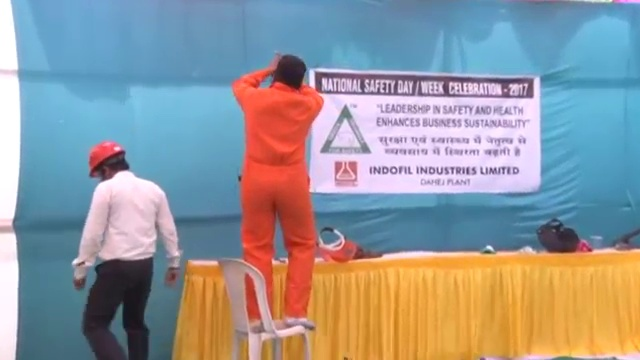helmet: (86, 138, 126, 177)
helmet_off: (271, 51, 308, 89)
helmet_on: (85, 138, 133, 184)
person: (234, 50, 324, 332), (71, 136, 181, 360)
